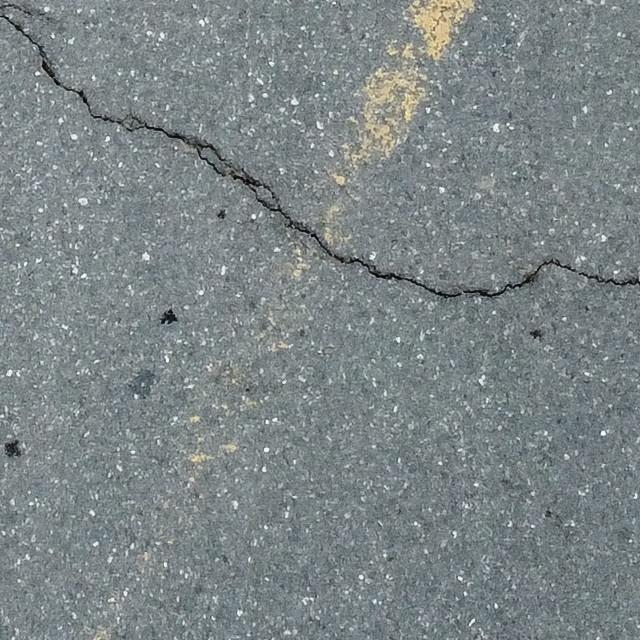TransverseCrack: (1, 11, 640, 298)
